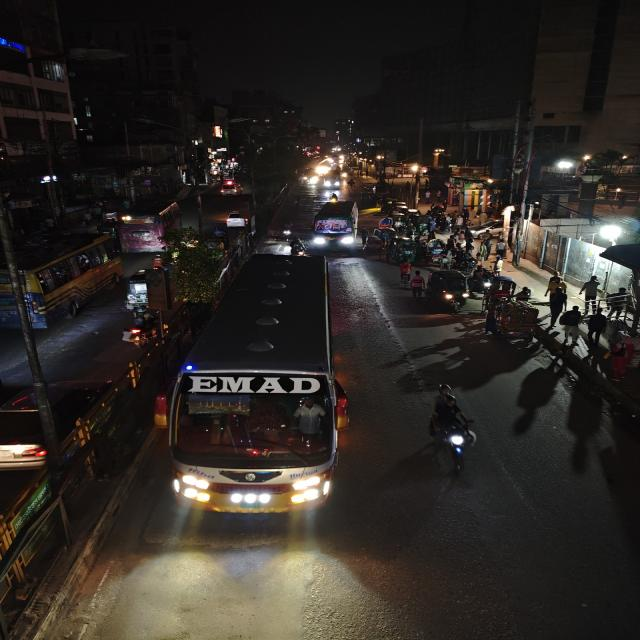bus: (168, 256, 346, 514), (0, 232, 123, 332), (116, 196, 184, 254), (310, 200, 360, 251)
car: (0, 373, 129, 469)
cng: (429, 268, 472, 310), (124, 270, 154, 313)
motorcycle: (424, 382, 482, 476), (121, 307, 170, 348)
pedestrian: (558, 306, 584, 346), (605, 286, 634, 321), (580, 275, 604, 313), (546, 286, 569, 322), (586, 309, 608, 345), (405, 271, 428, 303), (544, 272, 564, 298), (514, 285, 533, 309), (396, 258, 414, 282), (488, 252, 504, 276)
rickshaw: (484, 301, 546, 353), (372, 225, 399, 248)
